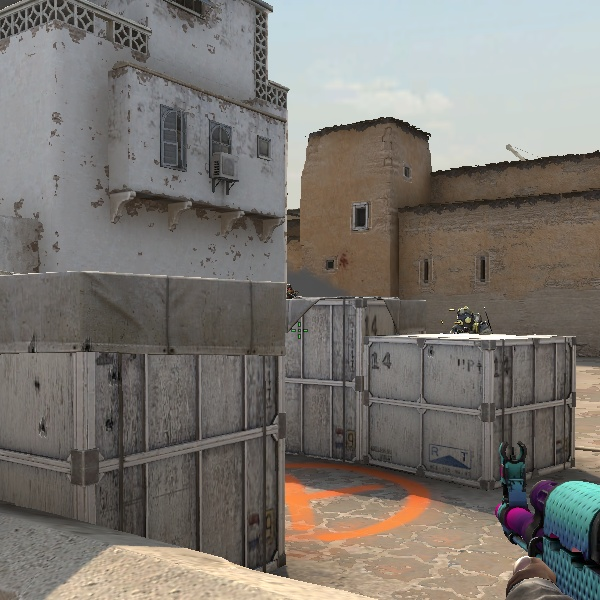ct_body: (444, 305, 485, 333)
